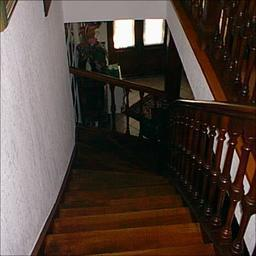Escaleras: (36, 118, 220, 255)
